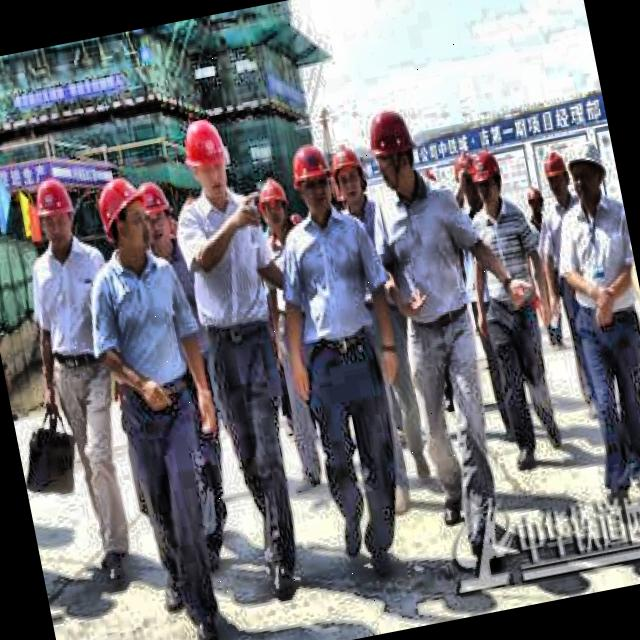helmet: (358, 99, 426, 201), (94, 172, 158, 264), (178, 114, 238, 202), (284, 137, 340, 226), (30, 172, 82, 254), (564, 134, 614, 212), (136, 177, 180, 254), (328, 138, 372, 212), (471, 142, 512, 214), (254, 174, 296, 240), (539, 144, 572, 212), (450, 150, 484, 215)
